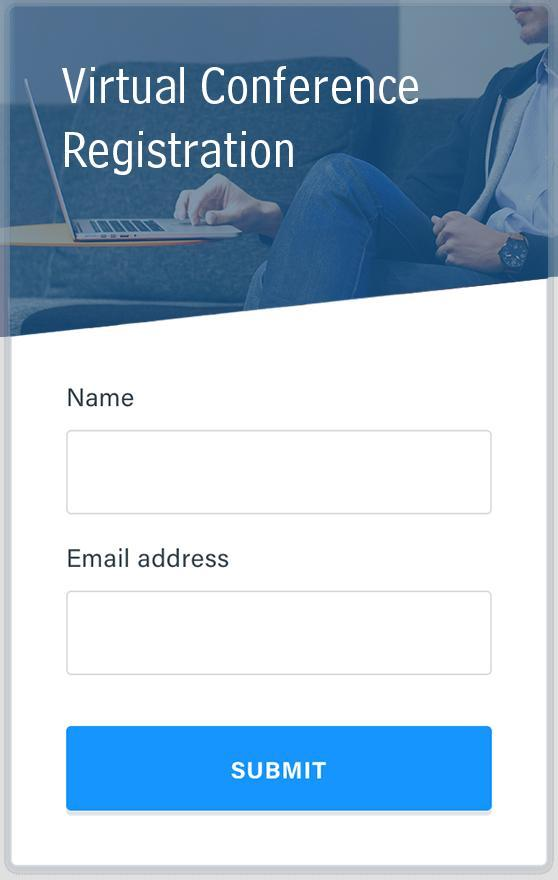button: (65, 724, 496, 814)
input: (67, 595, 497, 680), (67, 434, 491, 518)
label: (60, 61, 419, 181), (59, 536, 246, 579), (66, 377, 145, 421)
